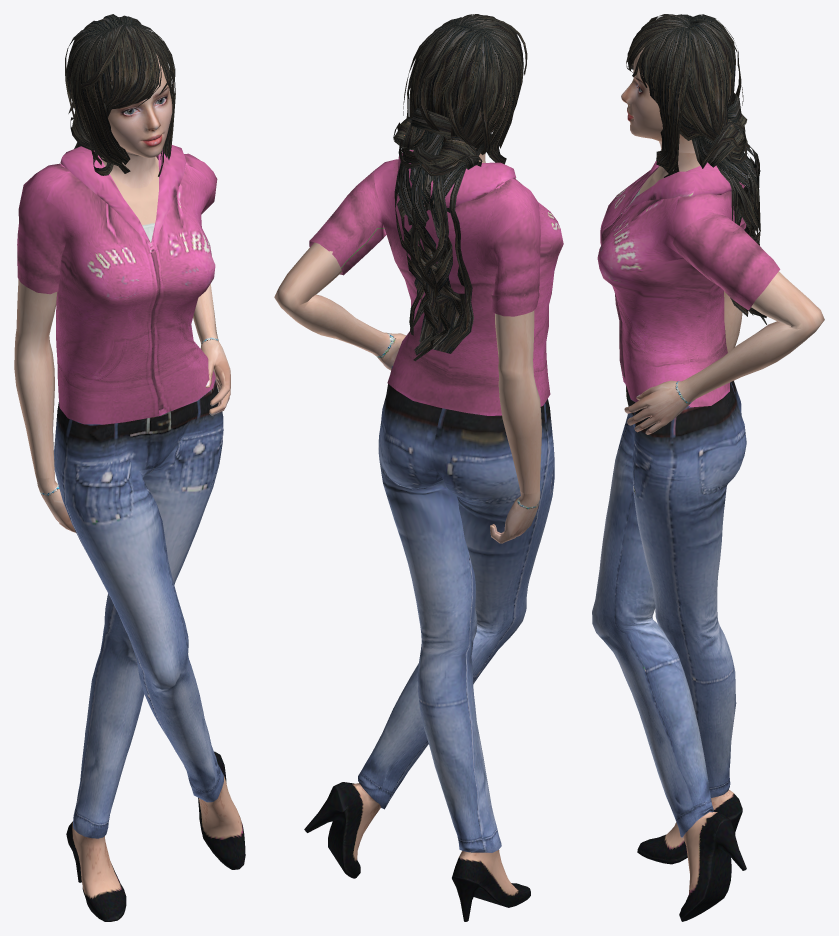
File: woman6.fbx
3 renders of one model, left to right at view 1: azimuth 30°, elevation 25°; view 2: azimuth 150°, elevation 25°; view 3: azimuth 270°, elevation 25°, orthographic. The views are drawn at different scales.
Visible parts, largest first — view 1: Female3_6; view 2: Female3_6; view 3: Female3_6.
Part boxes in pixels (<box>): Female3_6: <box>14,14,245,921</box>; Female3_6: <box>274,14,563,921</box>; Female3_6: <box>592,14,824,921</box>.
Size of the model in its own units: 4582 by 17537 by 4355.
